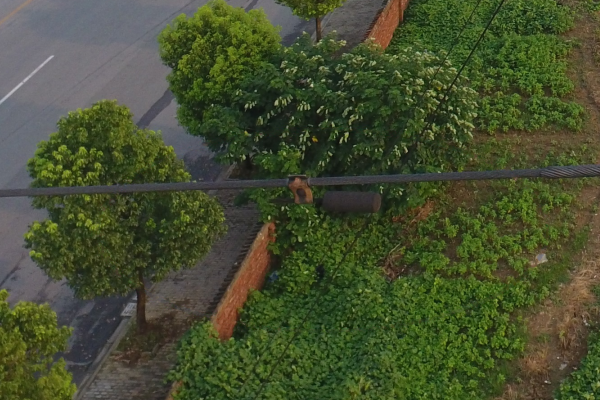damper_defect: (260, 171, 382, 213)
